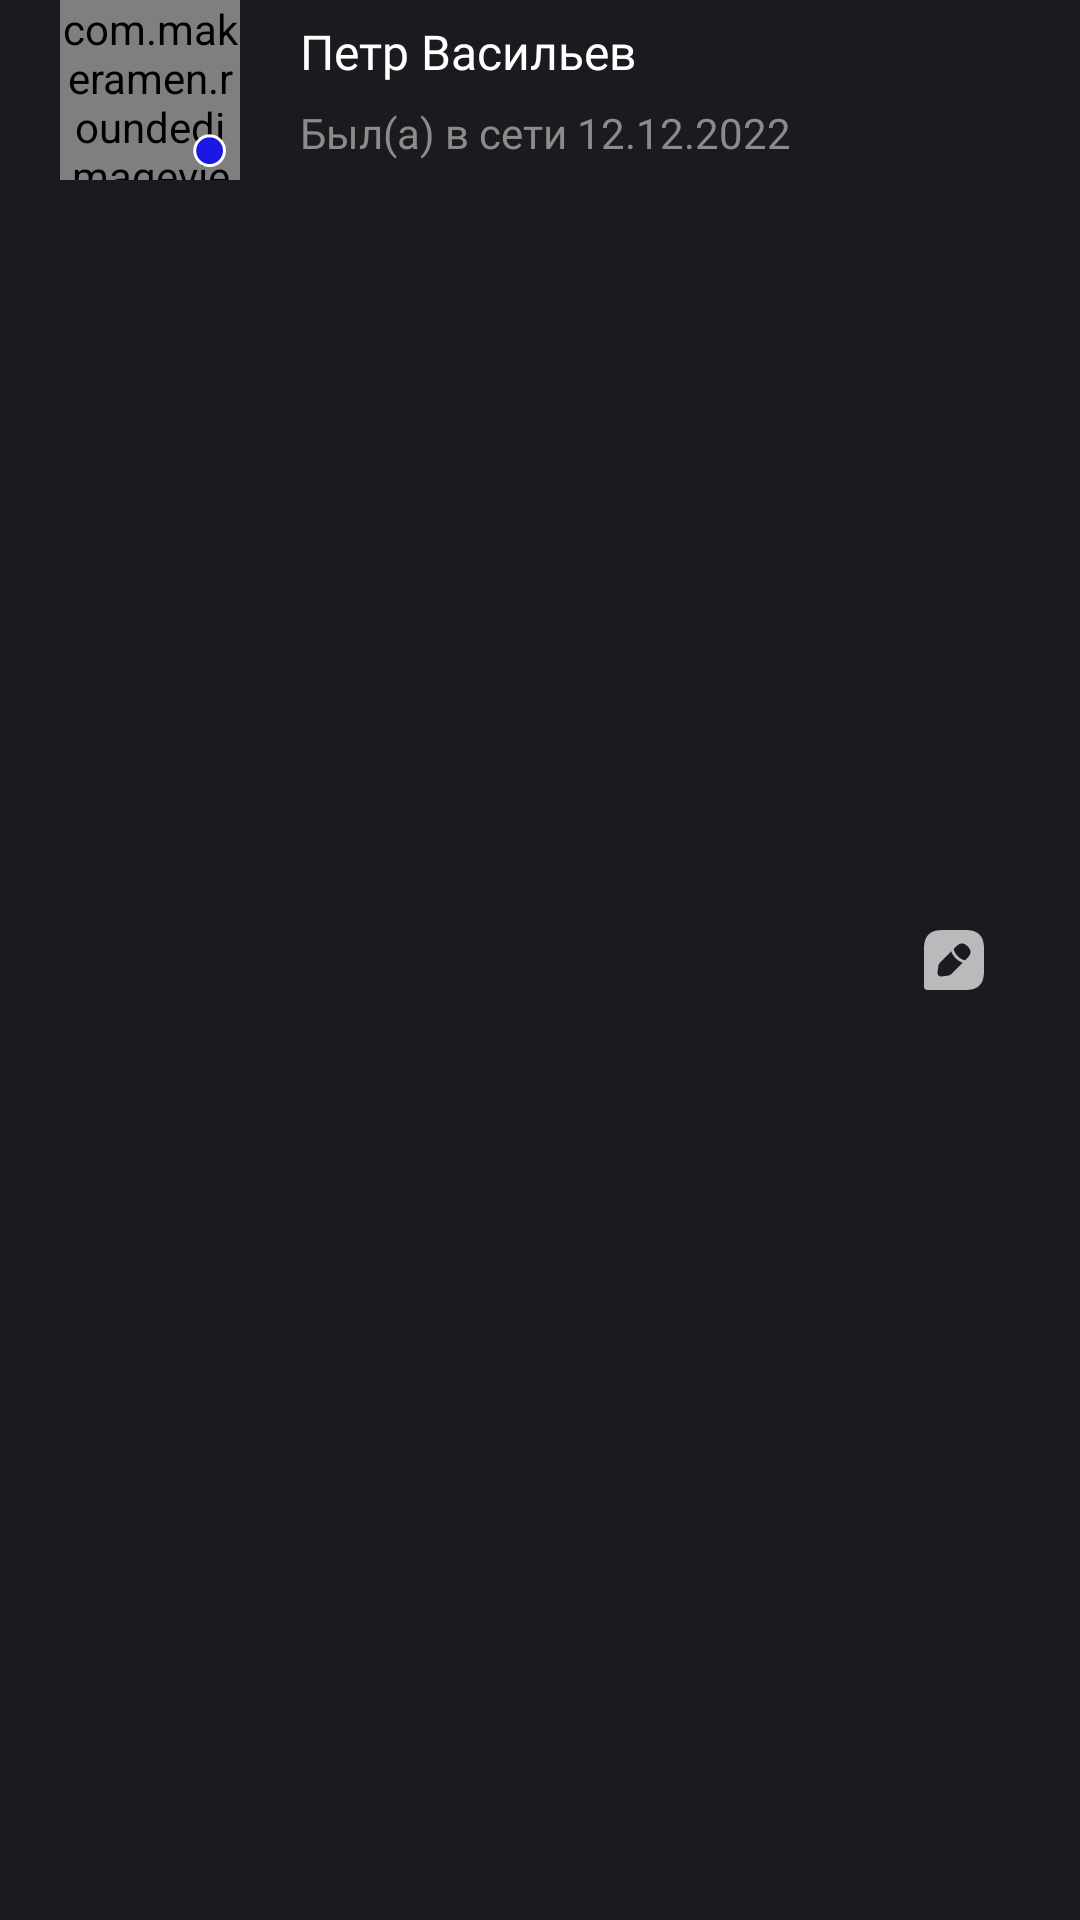

Icons on this 1080 x 1920 Android screen, each with its box as (x1, y1, x2, y2):
online dot: (193, 132, 226, 167)
start dialog: (924, 930, 984, 990)
